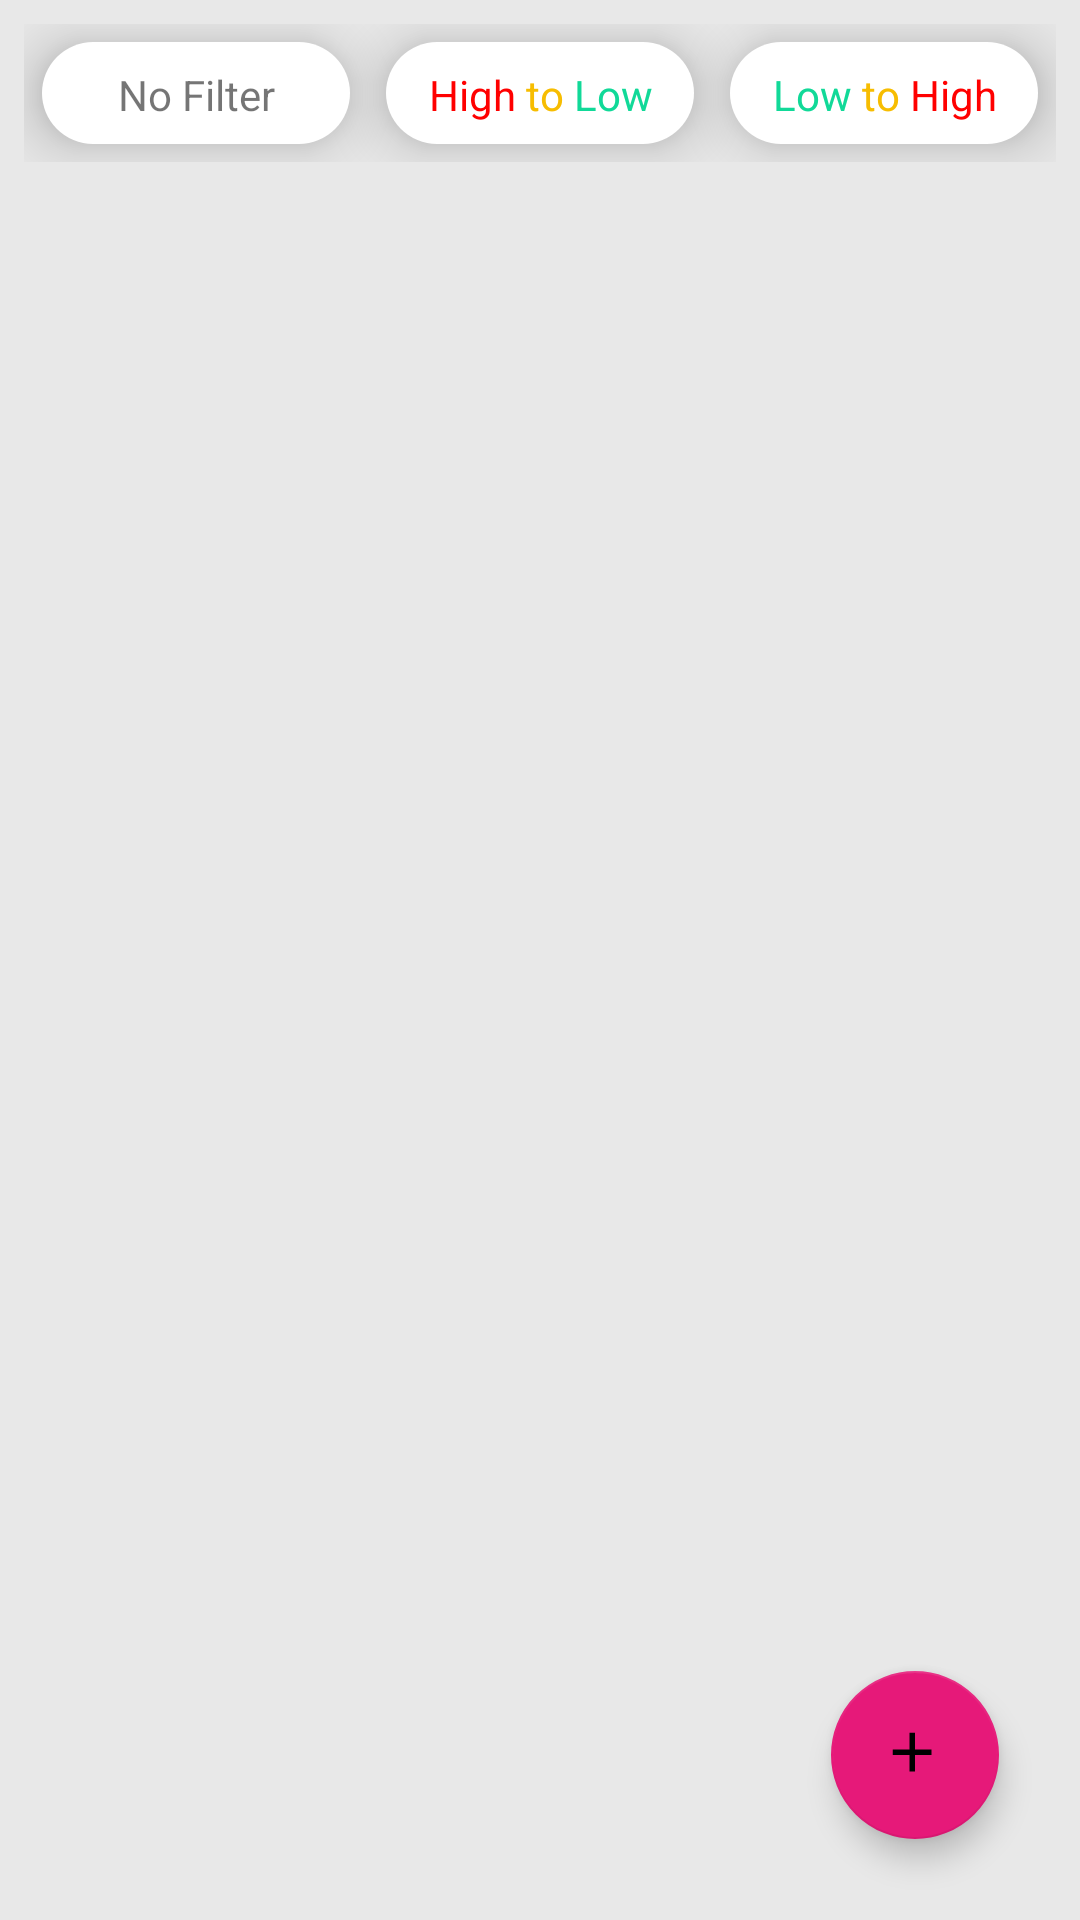

Icons on this 1080px x 1920px Android screen, each with the point to tap as point (x, y):
add: point (915, 1755)
